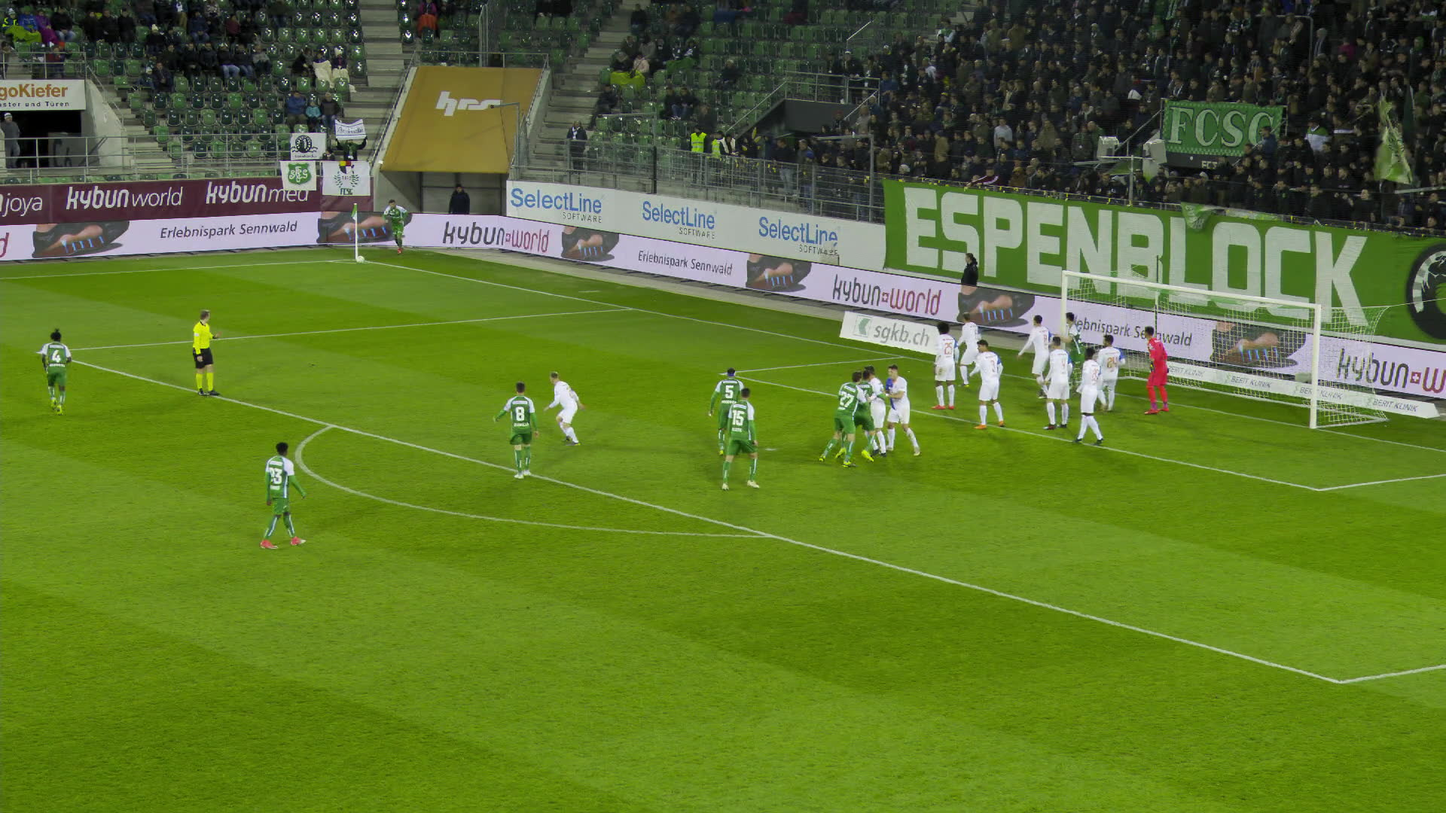ball: (357, 255, 365, 263)
player: (834, 371, 893, 462), (258, 441, 307, 550), (818, 371, 870, 467), (720, 388, 760, 491), (499, 383, 540, 480), (880, 364, 921, 455), (707, 367, 746, 455), (1071, 348, 1104, 445), (968, 340, 1004, 428), (1016, 315, 1052, 399), (544, 371, 584, 446), (40, 327, 72, 416), (1042, 336, 1072, 429), (1142, 325, 1170, 415), (1054, 311, 1087, 385), (932, 322, 959, 410), (1095, 333, 1125, 412), (954, 311, 982, 388), (863, 366, 886, 456), (380, 202, 407, 258)
referee: (192, 309, 222, 397)
